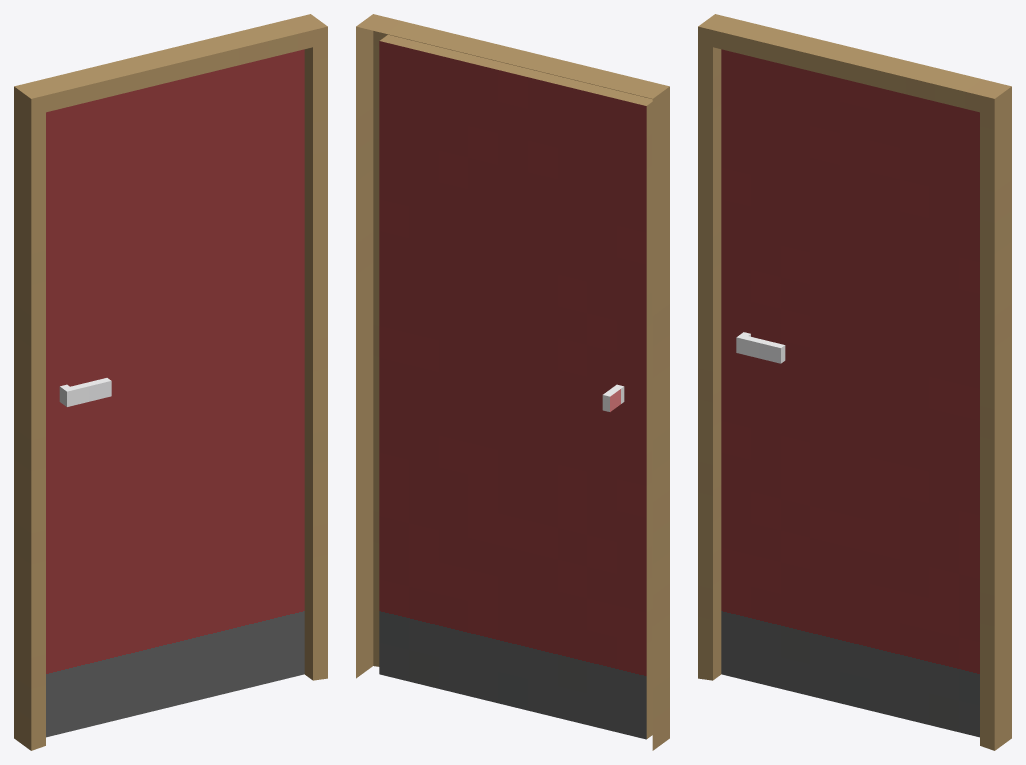
Rendered from door.glb.
The picture shows the model from 3 angles, left to right: view 1: azimuth 30°, elevation 25°; view 2: azimuth 150°, elevation 25°; view 3: azimuth 330°, elevation 25°; orthographic projection.
Visible parts, largest first — view 1: cuboid (×2); view 2: cuboid; view 3: cuboid (×2).
Boxes of the visible parts, x1,y1,x2,y2 form: cuboid (×2): [14, 14, 327, 750]; cuboid: [356, 14, 669, 750]; cuboid (×2): [698, 14, 1011, 750].
Bounding box in the file's own units: 0.625 × 1.31 × 0.0828.
Materials: 1 (1 with a texture image).
